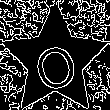O_N: (28, 30, 82, 91)
